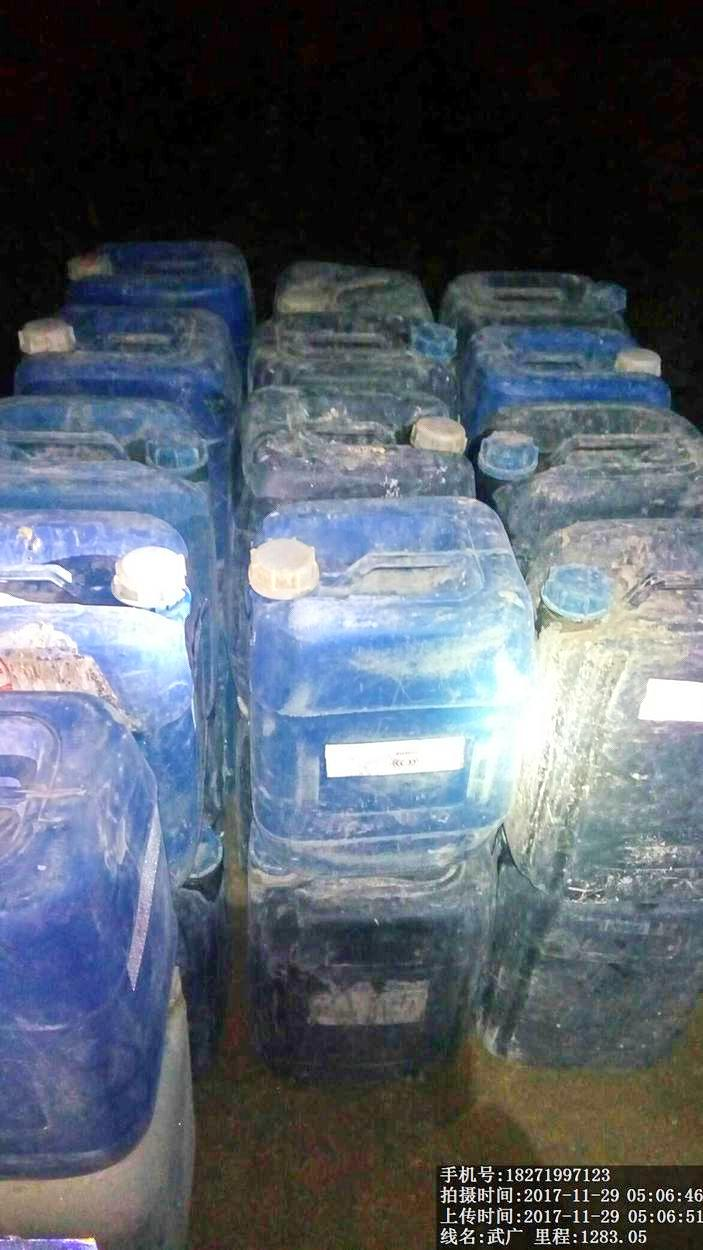SLT: (229, 486, 530, 862), (529, 506, 703, 892), (217, 372, 475, 500), (473, 390, 703, 511), (231, 299, 462, 379), (461, 323, 678, 395)
